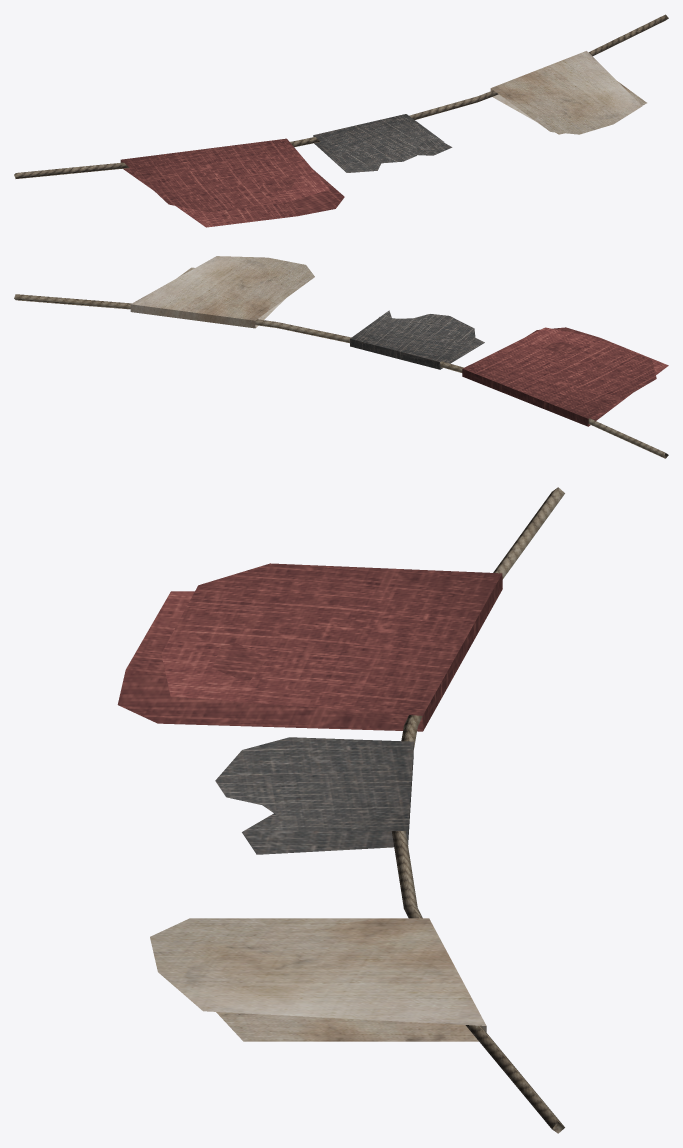
The model's file is Clothe_Line_Long_A.fbx.
3 views of the same model, one above another, from view 1: azimuth 30°, elevation 25°; view 2: azimuth 150°, elevation 25°; view 3: azimuth 270°, elevation 25° (orthographic). The views are drawn at different scales.
Visible parts, largest first — view 1: Clothe_Line_Long_A; view 2: Clothe_Line_Long_A; view 3: Clothe_Line_Long_A.
Part boxes in pixels (x1=…): Clothe_Line_Long_A: x1=14, y1=14, x2=668, y2=227; Clothe_Line_Long_A: x1=14, y1=256, x2=668, y2=458; Clothe_Line_Long_A: x1=117, y1=487, x2=564, y2=1133.
Bounding box in the file's own units: 5.78 × 0.0743 × 1.72.
